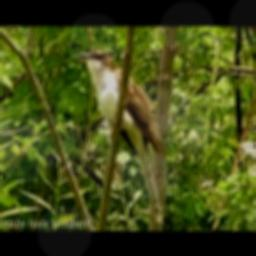Cuckoo: (76, 49, 163, 224)
